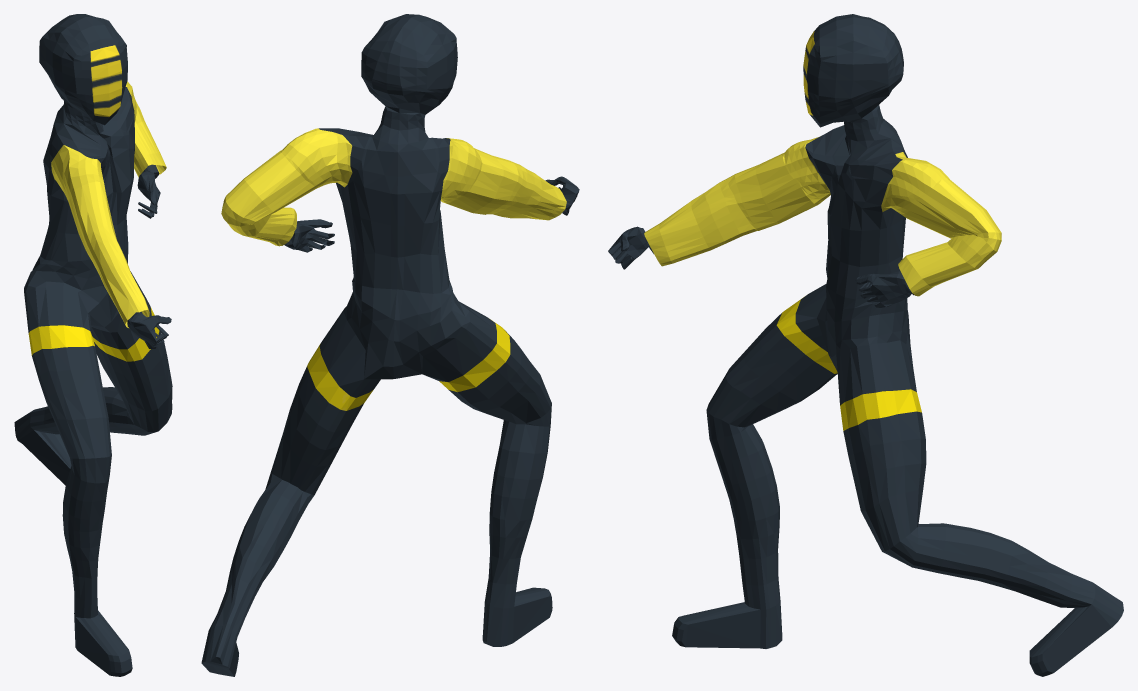
File: Sentry_WR_000022.obj
The picture shows the model from 3 angles, left to right: view 1: azimuth 30°, elevation 25°; view 2: azimuth 150°, elevation 25°; view 3: azimuth 270°, elevation 25°; orthographic projection. The views are drawn at different scales.
Visible parts, largest first — view 1: Cube; view 2: Cube; view 3: Cube.
Boxes of the visible parts, x1,y1,x2,y2 form: Cube: [14, 14, 172, 676]; Cube: [201, 14, 579, 676]; Cube: [608, 14, 1123, 676].
Size of the model in its own units: 1.18 by 3.6 by 2.6.
